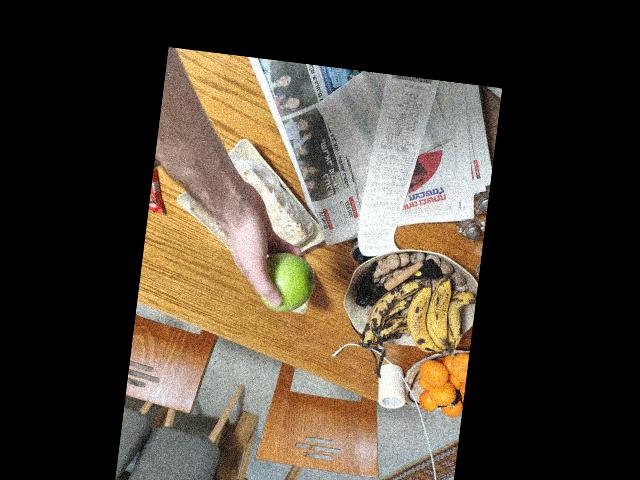apple: (248, 243, 316, 318)
